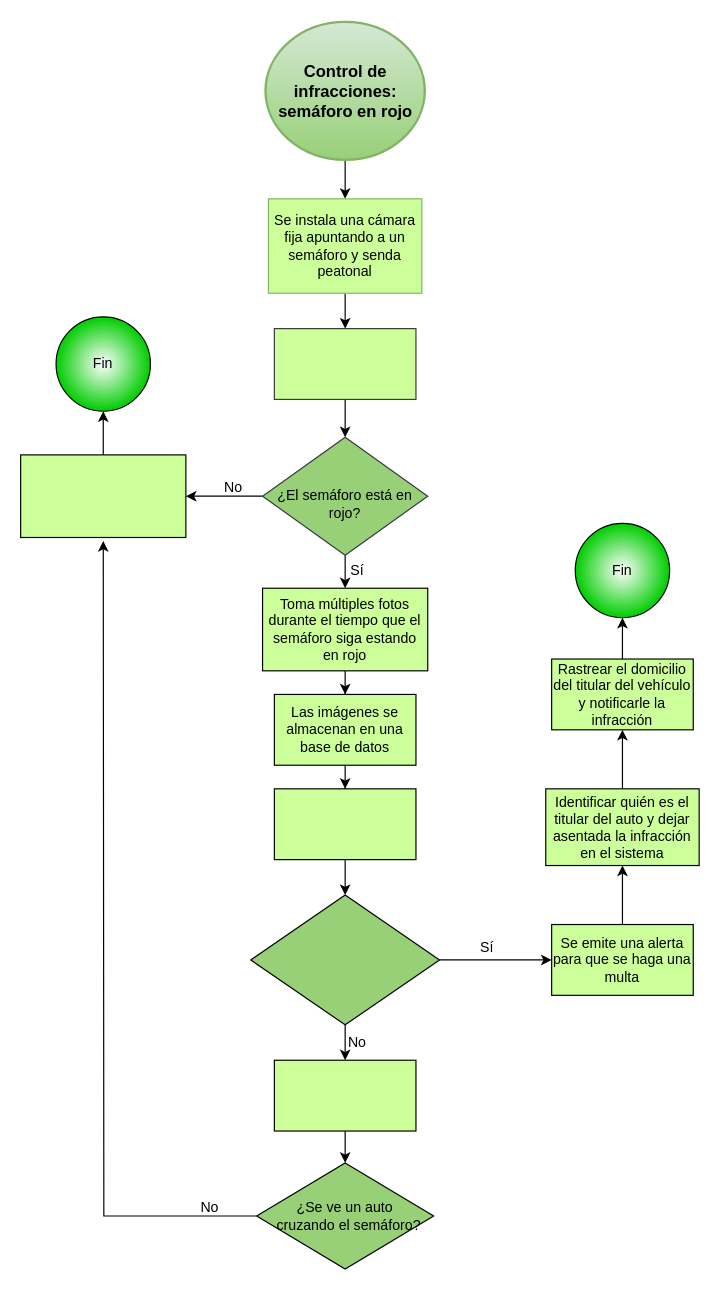
This 720x1290 diagram has some shape labels left out. Each missing label, with the centre of its shape:
"Guarda la imagen grabada en una base de datos, pero no emite alerta" goes at point 102,495.
"La cámara captura imágenes" goes at point 344,363.
"Se usa la misma foto para evaluar otras posibles infracciones" goes at point 344,1095.
"Un programa evalúa las fotos tomadas de la base de datos" goes at point 344,824.
"¿Hay algún auto sobre la senda peatonal?" goes at point 345,959.
